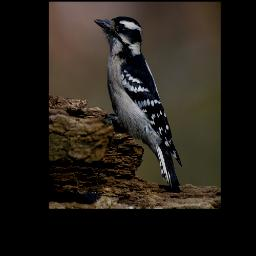Woodpecker: (93, 13, 182, 195)
